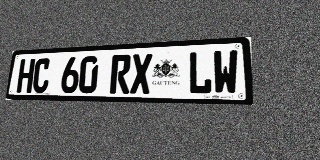0: (78, 56, 99, 93)
6: (60, 57, 81, 93)
C: (32, 58, 51, 93)
H: (16, 59, 35, 93)
L: (188, 51, 212, 94)
R: (110, 54, 131, 94)
W: (213, 50, 239, 95)
X: (130, 53, 152, 94)
